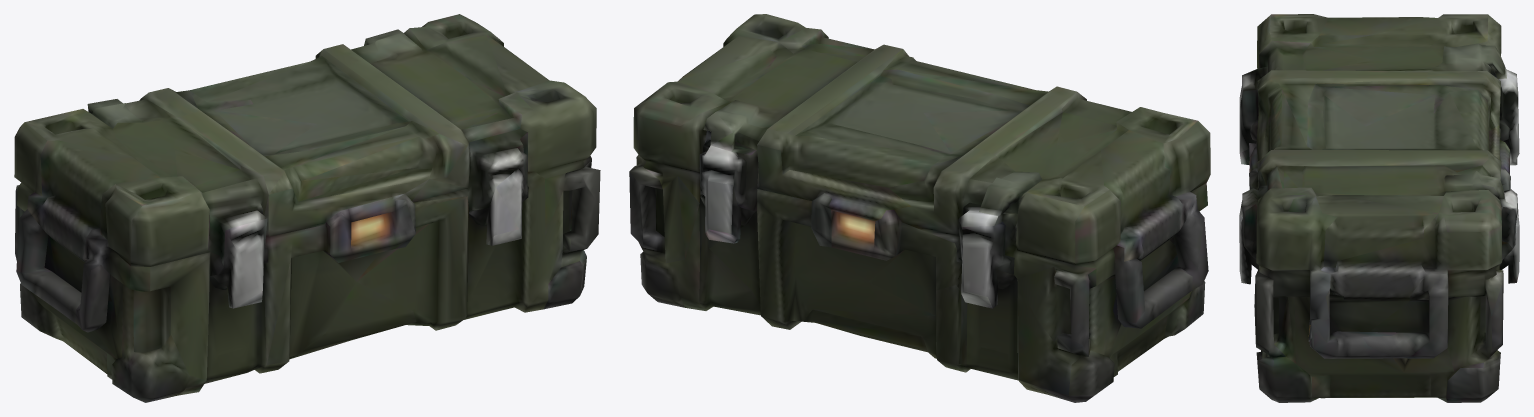
File: env-crate-military.glb
The picture shows the model from 3 angles, left to right: view 1: azimuth 30°, elevation 25°; view 2: azimuth 150°, elevation 25°; view 3: azimuth 270°, elevation 25°; orthographic projection. The views are drawn at different scales.
Visible parts, largest first — view 1: env-crate-military; view 2: env-crate-military; view 3: env-crate-military.
Boxes of the visible parts, left/top/right/bottom form: env-crate-military: left=14, top=14, right=600, bottom=402; env-crate-military: left=629, top=14, right=1210, bottom=402; env-crate-military: left=1239, top=14, right=1519, bottom=402.
Size of the model in its own units: 1.8 by 0.6946 by 0.9267.
Materials: 1 (1 with a texture image).
